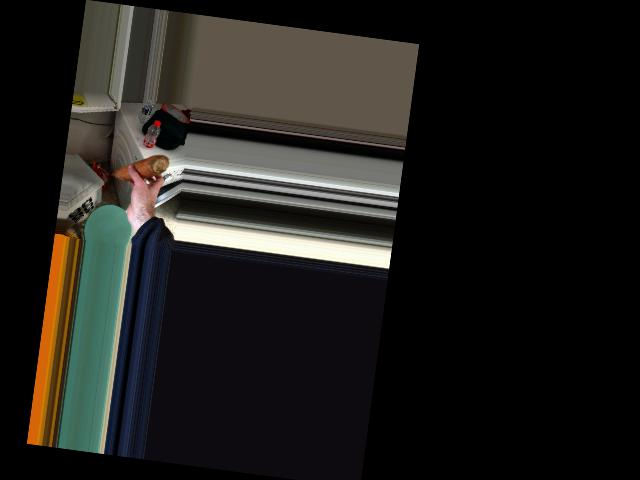sweet_potato: (114, 147, 167, 190)
